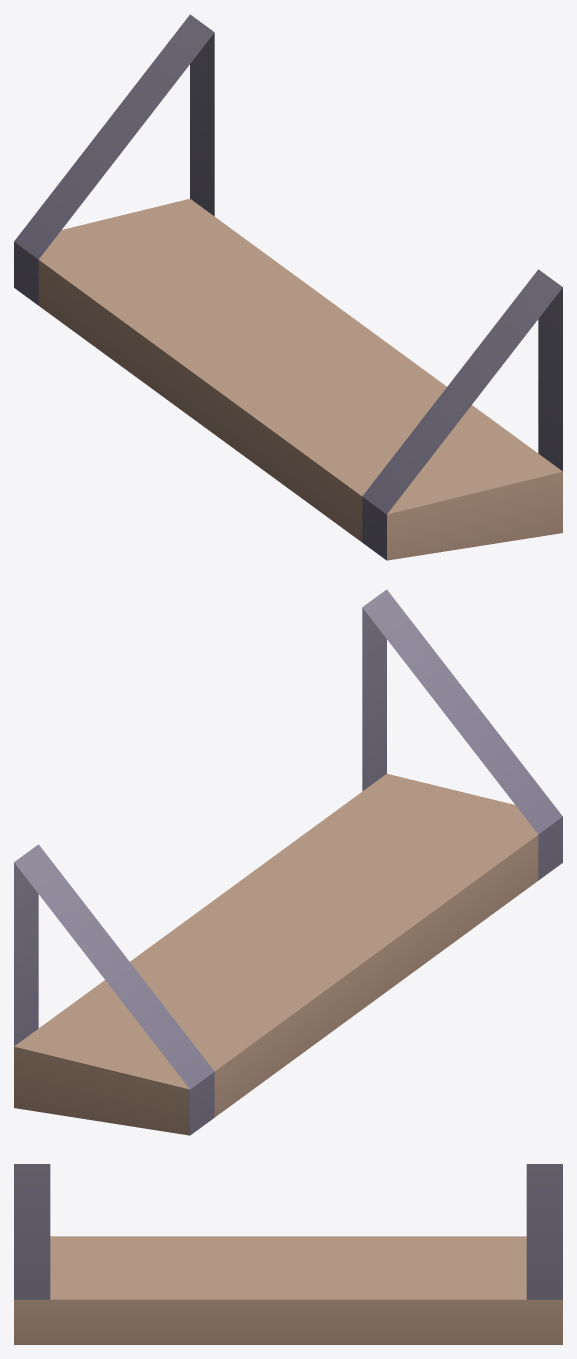
The model's file is shelf-hanging-long (%wall).glb.
3 renders of one model, top to bottom at view 1: azimuth 30°, elevation 25°; view 2: azimuth 150°, elevation 25°; view 3: azimuth 270°, elevation 25°, orthographic. The views are drawn at different scales.
Parts seen in each view (by area): view 1: shelf-hanging-long (%wall); view 2: shelf-hanging-long (%wall); view 3: shelf-hanging-long (%wall).
Part boxes in pixels (left/top/right/bottom): shelf-hanging-long (%wall): left=14, top=14, right=562, bottom=560; shelf-hanging-long (%wall): left=14, top=589, right=562, bottom=1135; shelf-hanging-long (%wall): left=14, top=1164, right=562, bottom=1344.
Size of the model in its own units: 0.3 by 0.4 by 1.1.
